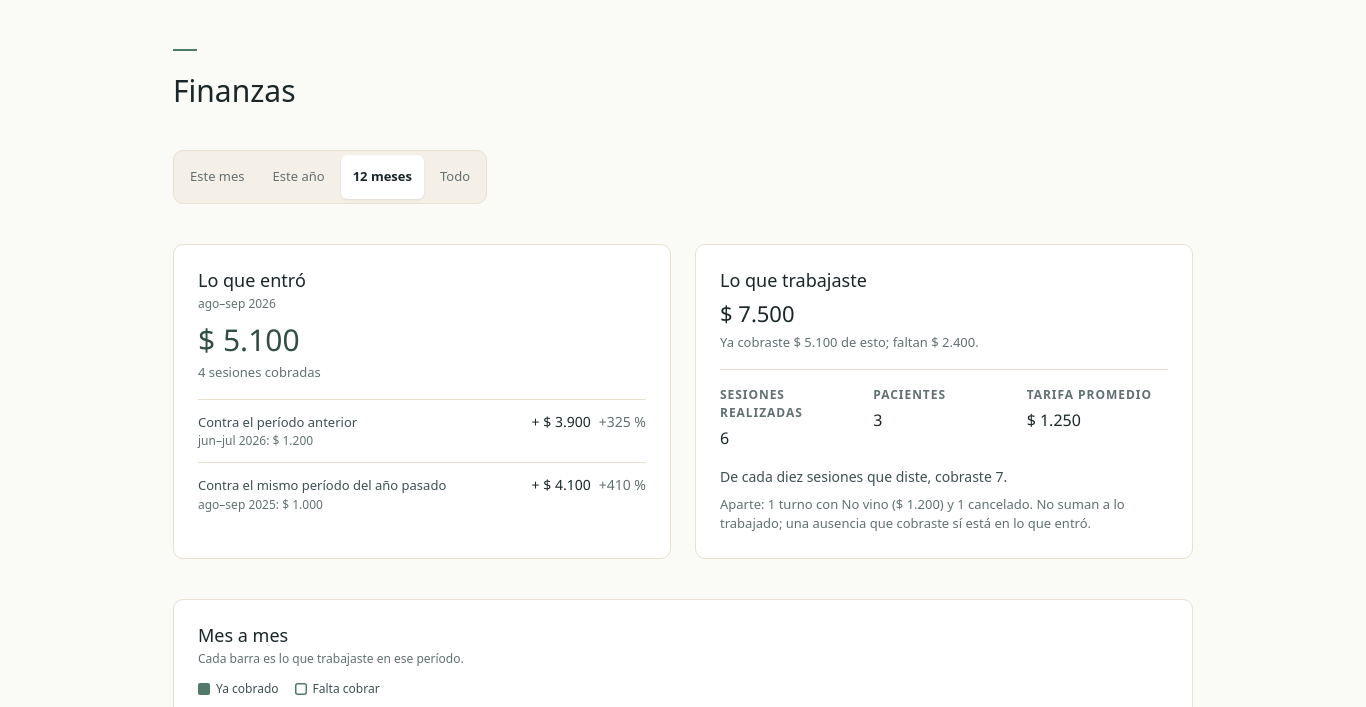
Test: dos chips que piden lo mismo › si lo último falló, reintenta en vez de esconder el error
expect the element showing "Este mes Este año 12 meses Todo" is shown: met, box [173,150,487,204]
Click the tab "Este mes" at (217, 176), box [178,154,257,198]
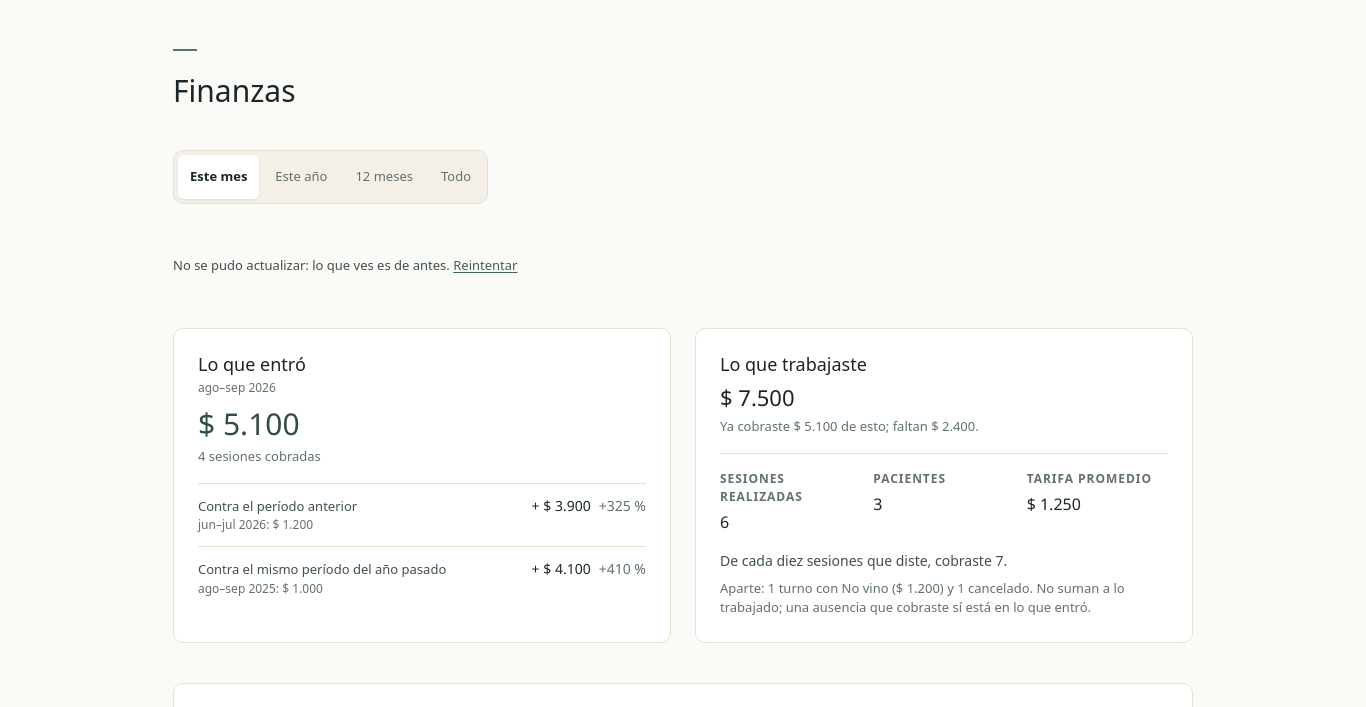
expect the message "No se pudo actualizar: lo que ves es de antes. Reintentar" is shown: met, box [173,244,518,288]
Click the tab "Este año" at (301, 176), box [263,154,340,198]
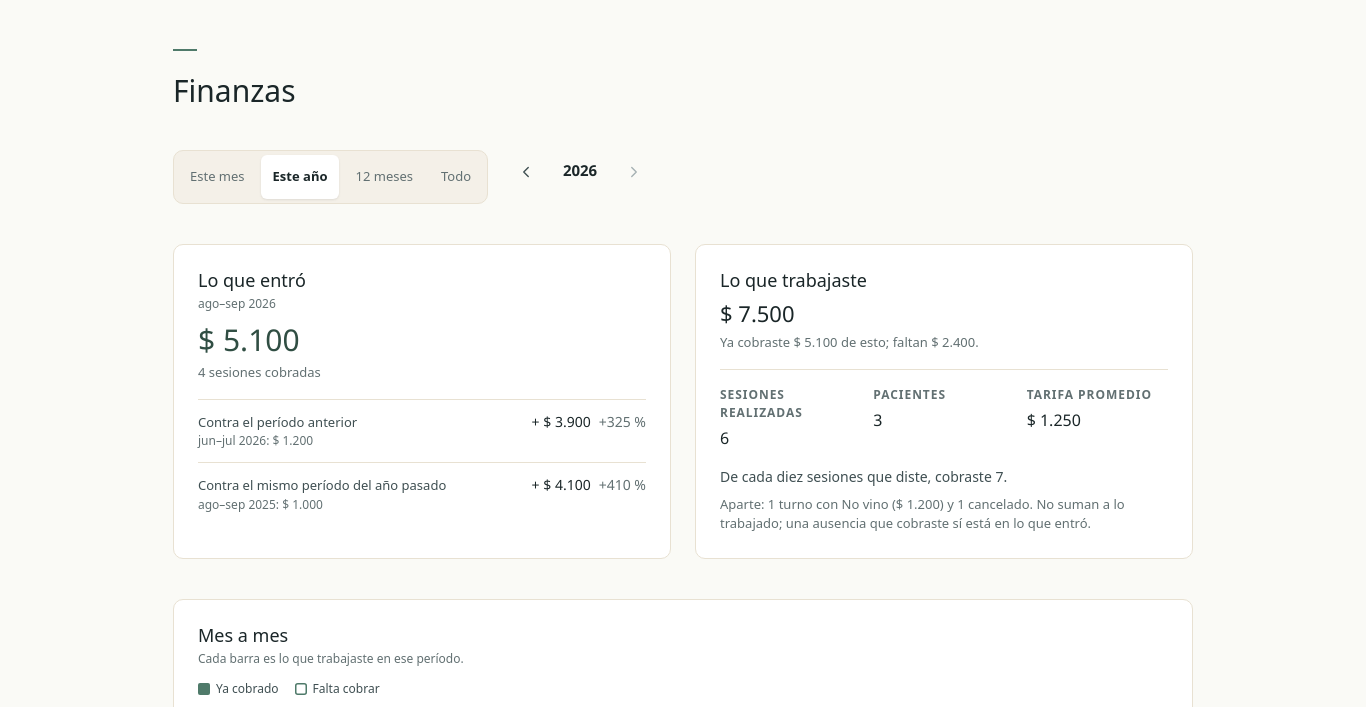
expect the message "No se pudo actualizar: lo que ves es de antes. Reintentar" is gone: met
